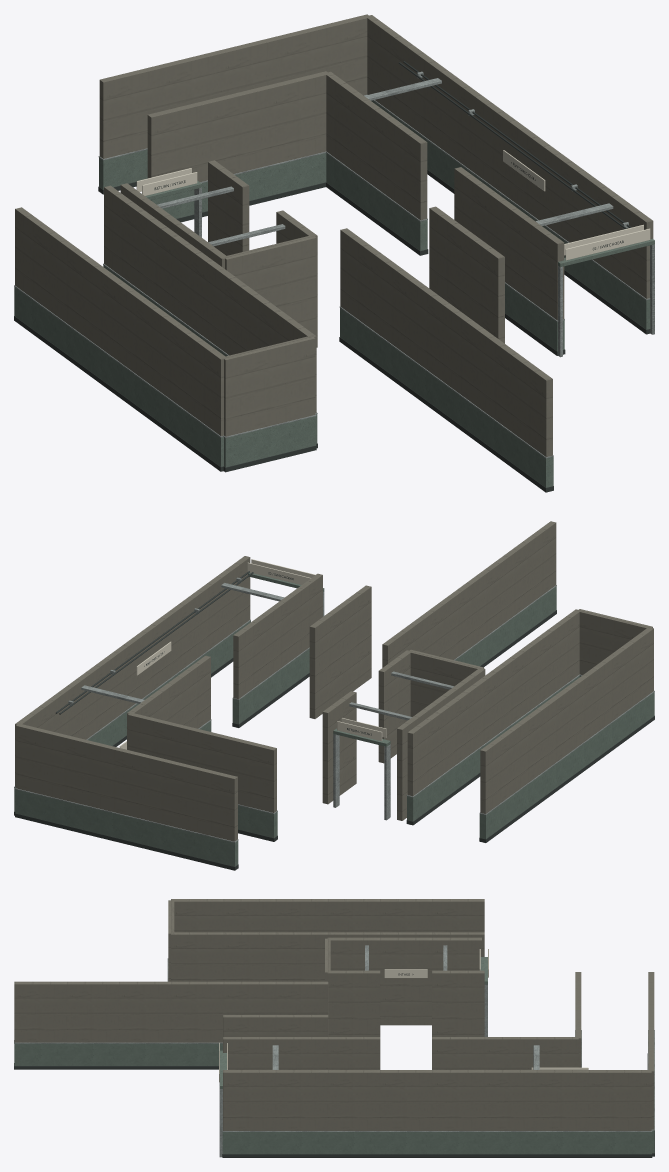
The model's file is power_service.glb.
3 renders of one model, top to bottom at view 1: azimuth 30°, elevation 25°; view 2: azimuth 150°, elevation 25°; view 3: azimuth 270°, elevation 25°, orthographic. The views are drawn at different scales.
Parts seen in each view (by area): view 1: power_service / power_plaster, power_service / power_sage_enamel, power_service / power_blackened_steel, power_service / power_galvanized, power_service / power_instrument_ivory; view 2: power_service / power_plaster, power_service / power_sage_enamel, power_service / power_galvanized, power_service / power_blackened_steel, power_service / power_instrument_ivory; view 3: power_service / power_plaster, power_service / power_sage_enamel, power_service / power_blackened_steel, power_service / power_galvanized, power_service / power_instrument_ivory.
Boxes of the visible parts, x1,y1,x2,y2 form: power_service / power_plaster: [15, 14, 653, 456]; power_service / power_sage_enamel: [14, 100, 654, 487]; power_service / power_blackened_steel: [14, 61, 650, 492]; power_service / power_galvanized: [14, 71, 654, 458]; power_service / power_instrument_ivory: [136, 150, 650, 260]; power_service / power_plaster: [15, 521, 653, 841]; power_service / power_sage_enamel: [14, 572, 654, 866]; power_service / power_galvanized: [14, 577, 654, 842]; power_service / power_blackened_steel: [14, 571, 654, 870]; power_service / power_instrument_ivory: [119, 559, 386, 749]; power_service / power_plaster: [14, 899, 654, 1130]; power_service / power_sage_enamel: [14, 957, 654, 1154]; power_service / power_blackened_steel: [14, 973, 654, 1157]; power_service / power_galvanized: [14, 945, 654, 1157]; power_service / power_instrument_ivory: [219, 949, 588, 1082].
Bounding box in the file's own units: 15.77 × 3.6 × 24.56.
5 materials, 3 textured.
